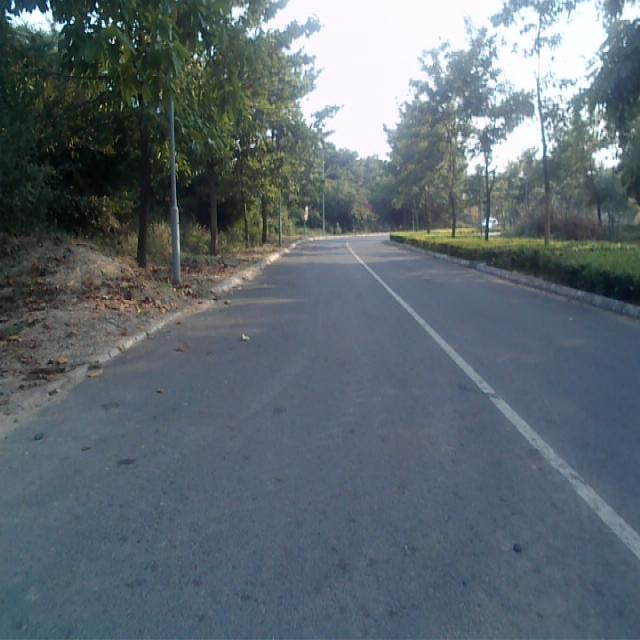lane: (0, 239, 640, 640)
